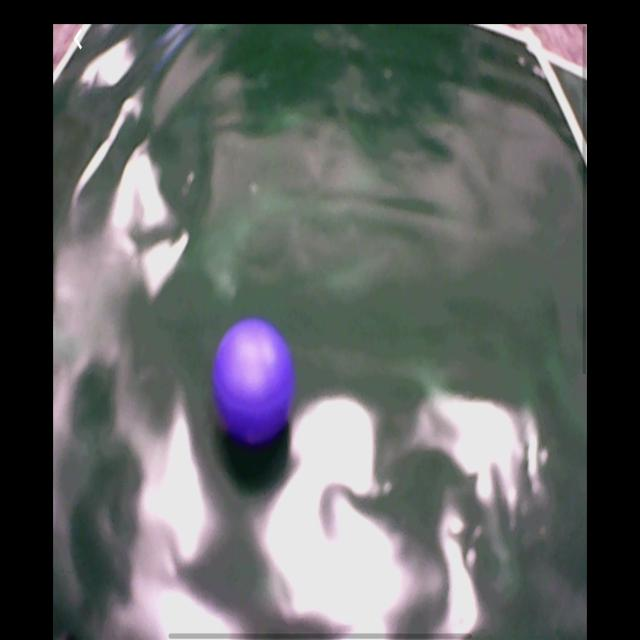ball: (215, 319, 295, 445)
